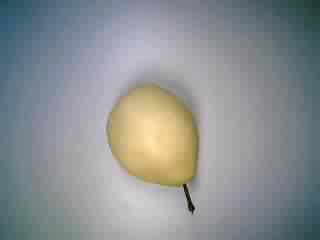pear: (86, 80, 223, 222)
